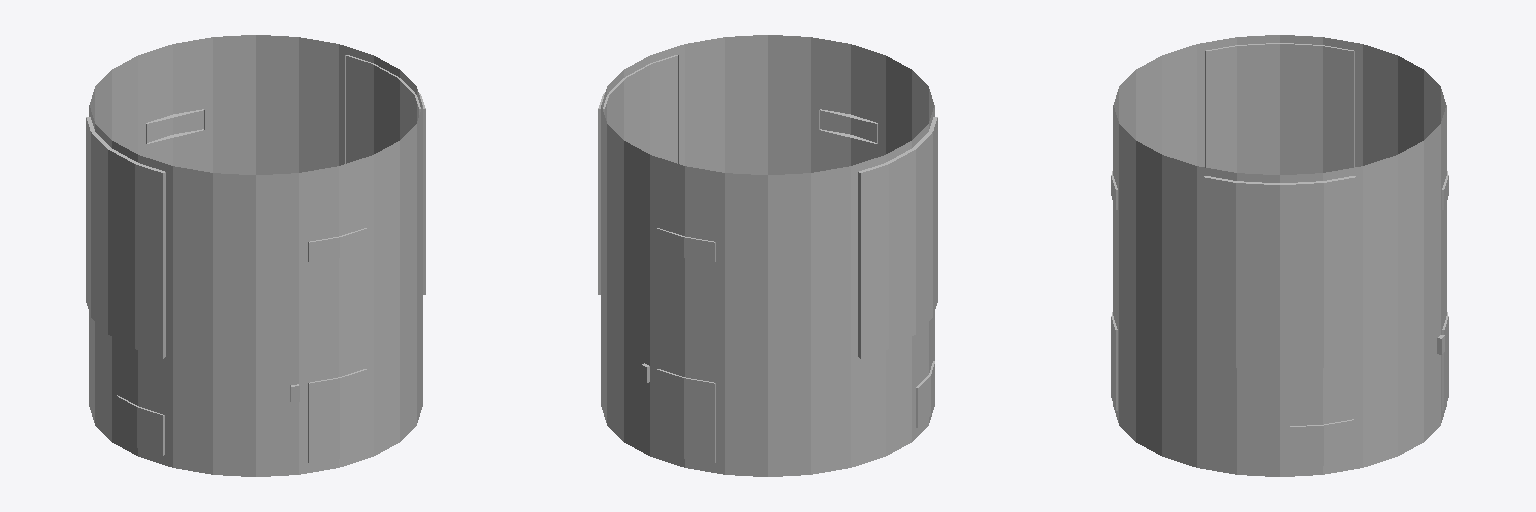
File: long 1p5 crew naked radiator.obj
3 views of the same model, side by side, from view 1: azimuth 30°, elevation 25°; view 2: azimuth 150°, elevation 25°; view 3: azimuth 270°, elevation 25° (orthographic).
Visible parts, largest first — view 1: 1; view 2: 1; view 3: 1.
Boxes of the visible parts, box(x1,y1,x2,y2) form: 1: box(86, 35, 425, 476); 1: box(598, 35, 937, 476); 1: box(1111, 35, 1448, 476).
Size of the model in its own units: 1.93 by 1.88 by 1.9.